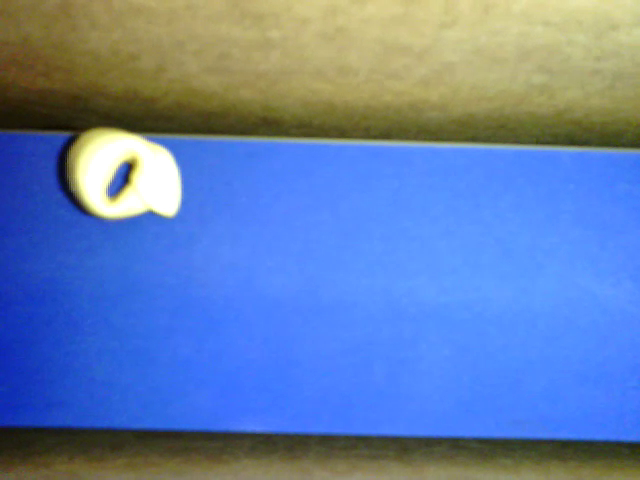tortellini: (67, 126, 181, 220)
